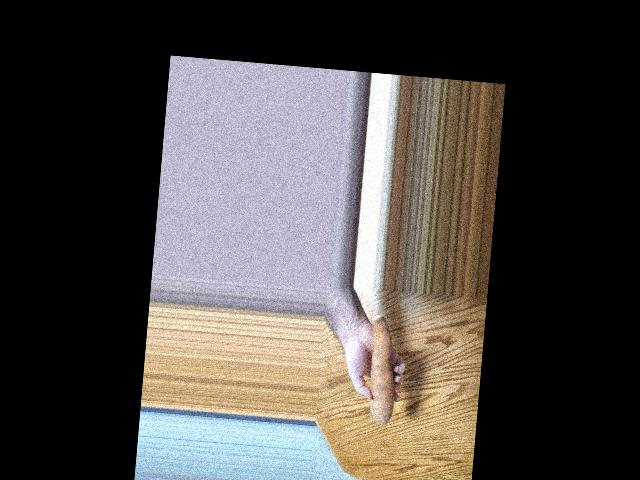sweet_potato: (366, 318, 408, 430)
